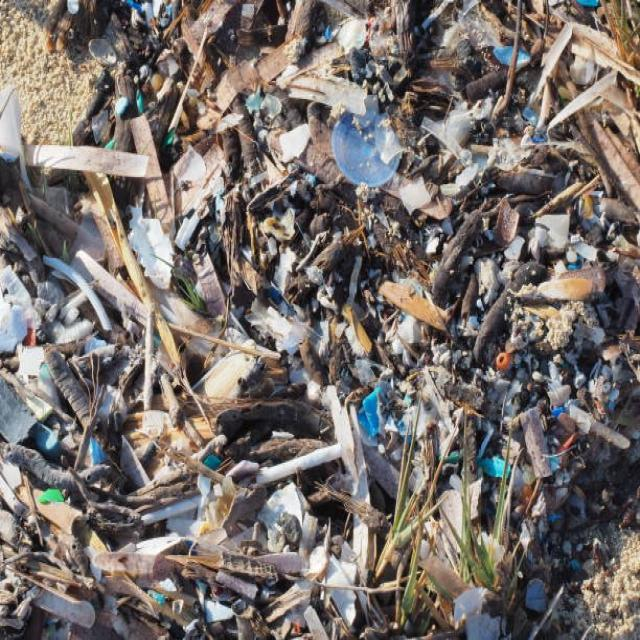plastic: (337, 92, 395, 197)
trash: (23, 220, 617, 610)
